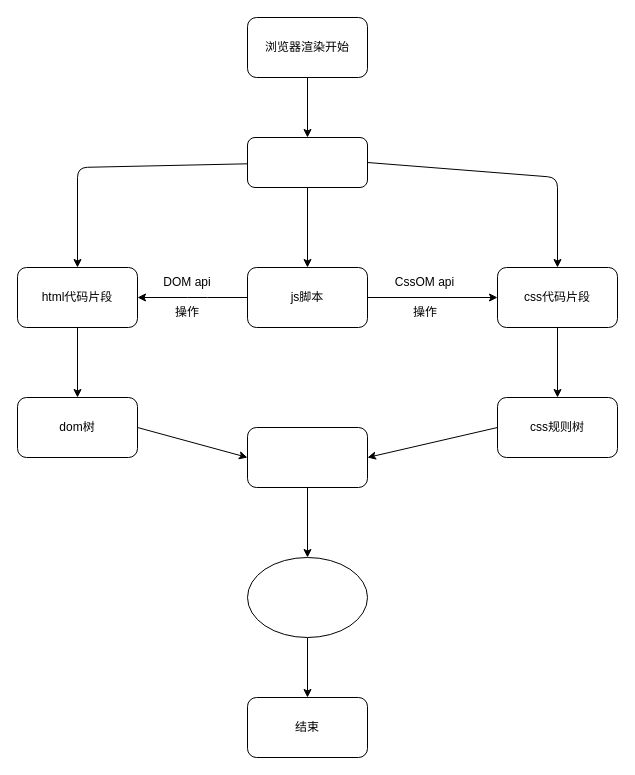
This 635x775 diagram has some shape labels left out. Here are the shapes that lost their labels. From the top down, the centre of each, then its label:
(x=307, y=162): 解析文件（html、xhtml、svg）
(x=307, y=457): 渲染树
(x=307, y=597): GUI 绘制
